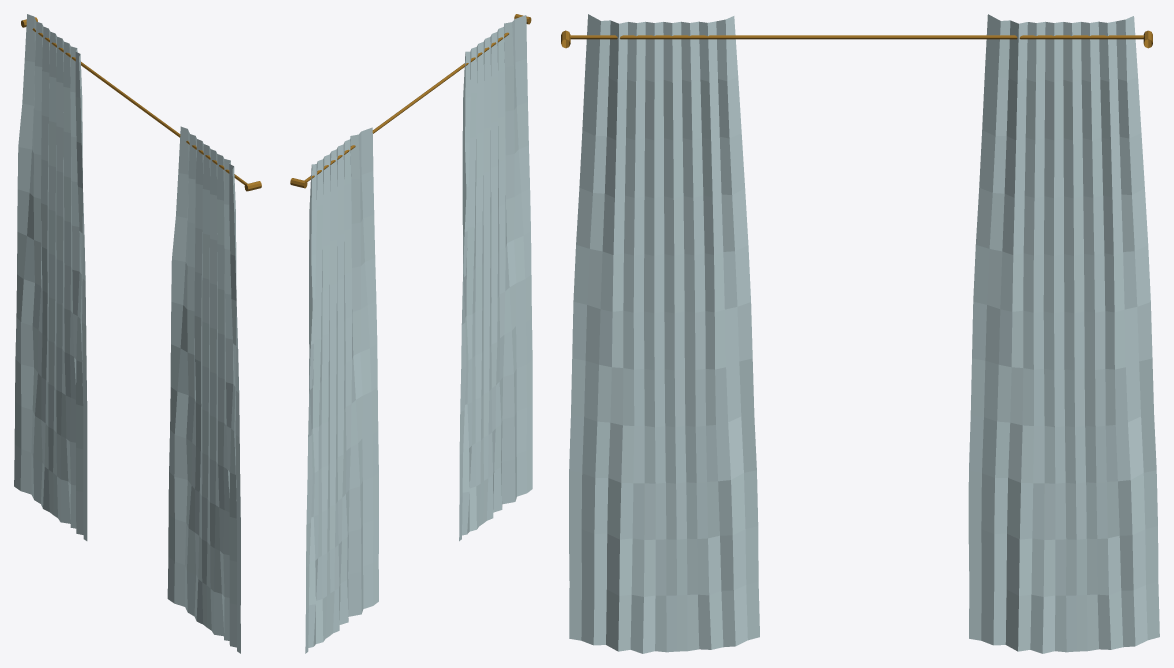
Rendered from CortinasEscenario2.fbx.
The picture shows the model from 3 angles, left to right: view 1: azimuth 30°, elevation 25°; view 2: azimuth 150°, elevation 25°; view 3: azimuth 270°, elevation 25°; orthographic projection. The views are drawn at different scales.
Parts seen in each view (by area): view 1: Cortinas_3_Dr; view 2: Cortinas_3_Dr; view 3: Cortinas_3_Dr.
Boxes of the visible parts, bbox=[...] form: Cortinas_3_Dr: bbox=[14, 14, 261, 653]; Cortinas_3_Dr: bbox=[290, 14, 532, 653]; Cortinas_3_Dr: bbox=[561, 14, 1159, 653].
Size of the model in its own units: 22.61 by 543 by 465.
